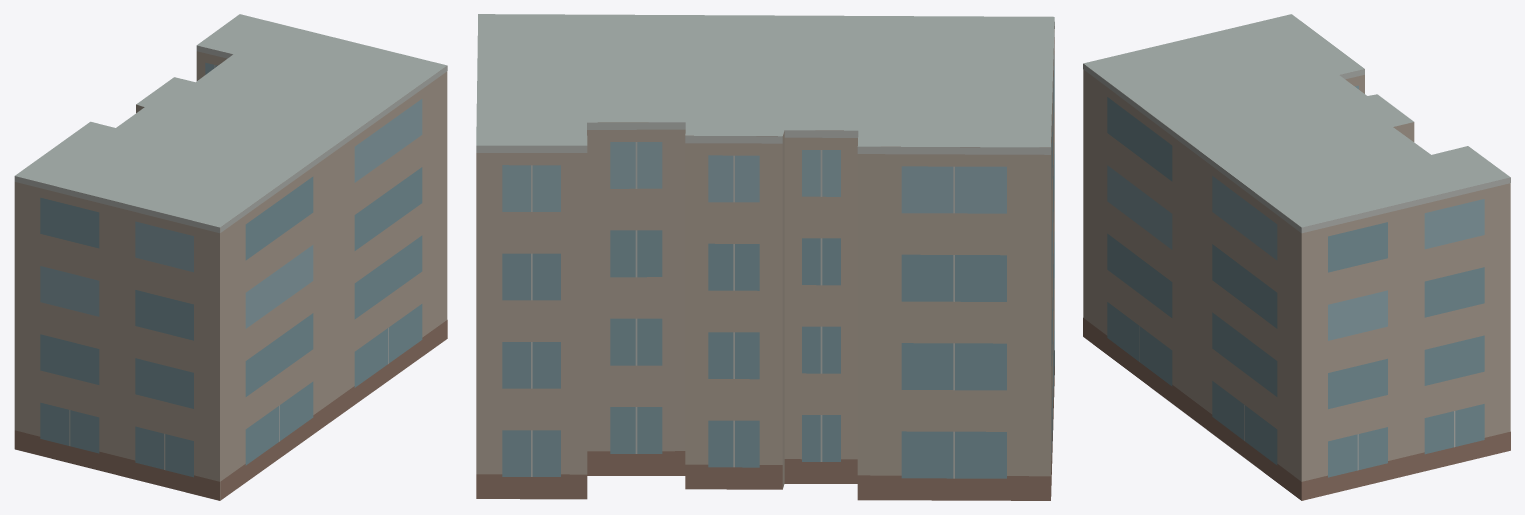
The model's file is survey-upis-32947310.glb.
3 renders of one model, left to right at view 1: azimuth 30°, elevation 25°; view 2: azimuth 150°, elevation 25°; view 3: azimuth 270°, elevation 25°, orthographic. The views are drawn at different scales.
Visible parts, largest first — view 1: survey-upis-32947310.tmp; view 2: survey-upis-32947310.tmp; view 3: survey-upis-32947310.tmp.
Part boxes in pixels (bbox=[...]): survey-upis-32947310.tmp: bbox=[14, 14, 447, 500]; survey-upis-32947310.tmp: bbox=[476, 14, 1054, 500]; survey-upis-32947310.tmp: bbox=[1083, 14, 1510, 500].
Bounding box in the file's own units: 19.46 × 11.6 × 16.46.
